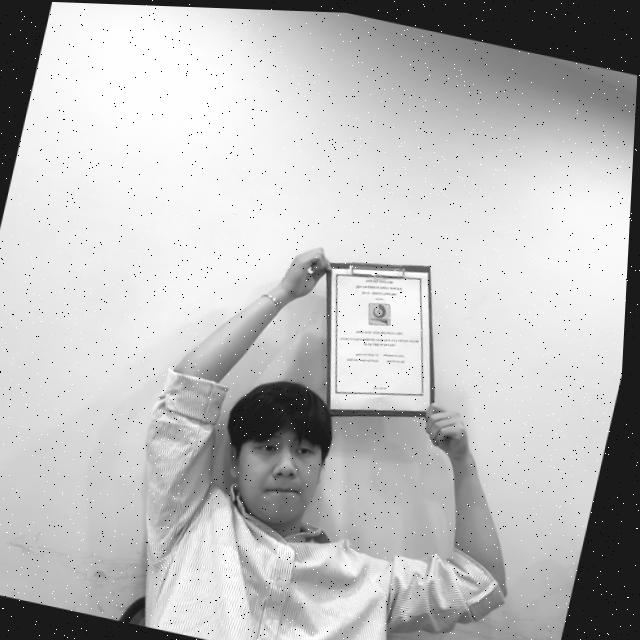document: (330, 269, 429, 411)
face: (212, 407, 332, 534)
